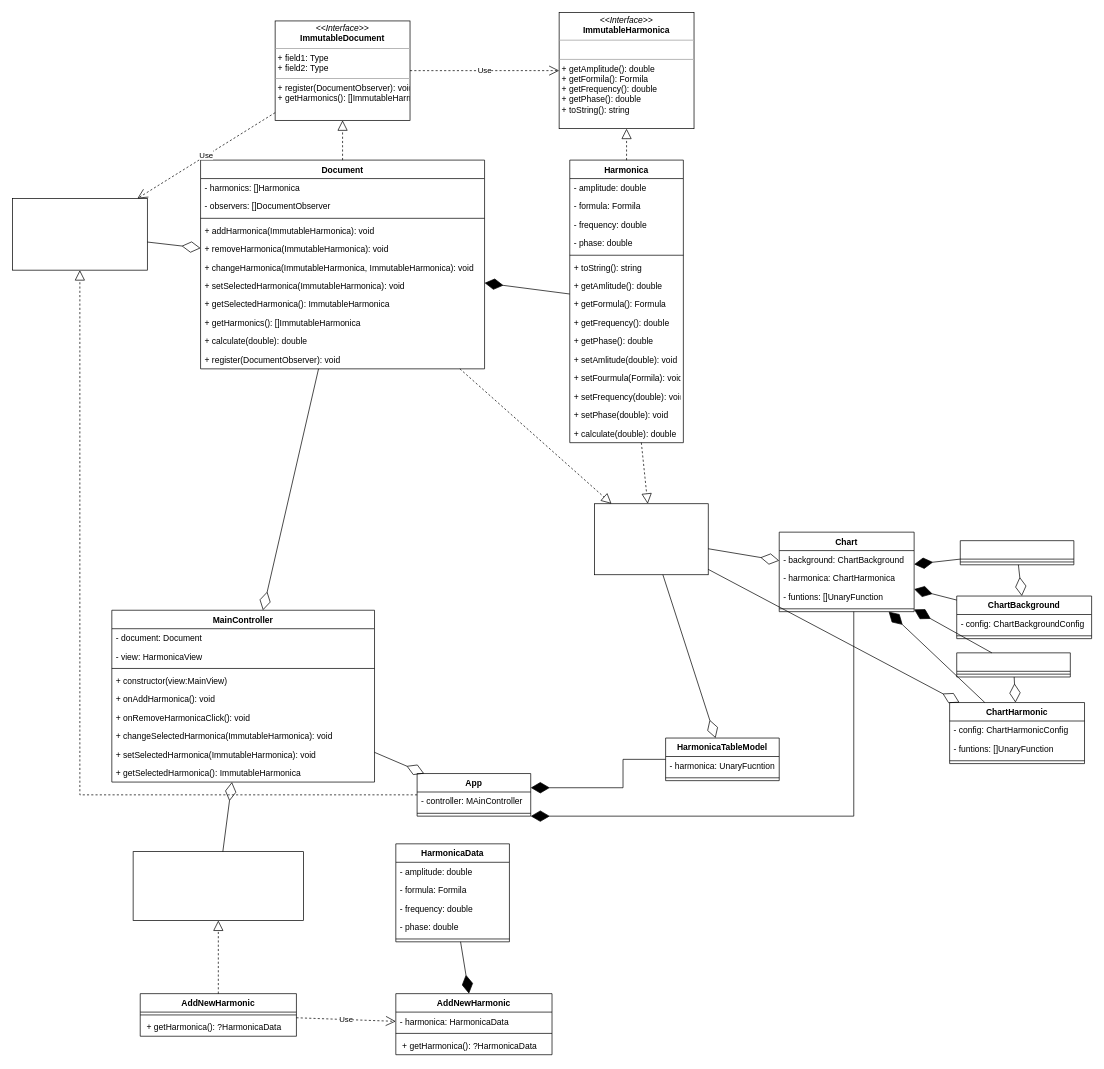
Image size: 1104x1069. Some labels were removed from this diagram. Each missing label, with the centre of its shape:
"<<Interface>> DocumentObserver + update(): void" goes at pixel 79 234.
"<<Interface>> HarmonicaView + getHarmonica(): ?HarmonicaData" goes at pixel 218 886.
"<<Interface>> UnaryFunction + calculate(double): double" goes at pixel 651 539.
"ChartBackgroundConfig" goes at pixel 1017 552.
"ChartHarmonicConfig" goes at pixel 1013 664.
